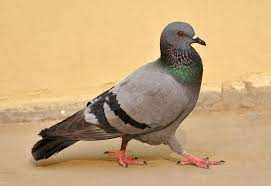Walking: (25, 5, 239, 177)
